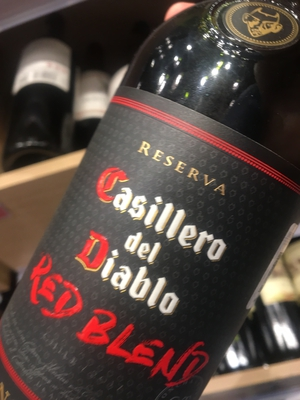casillero del diablo red blend: (10, 45, 288, 400)
